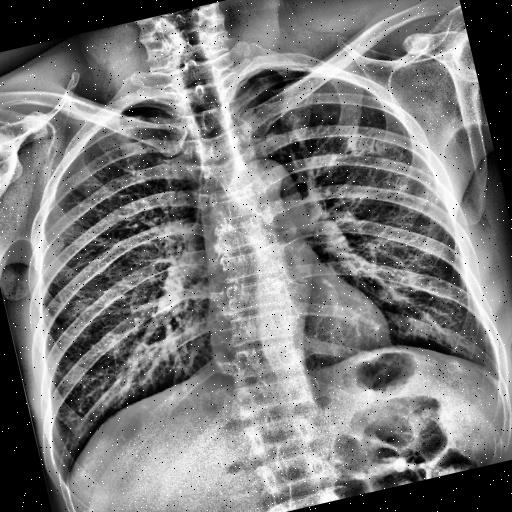0- Aortic enlargement: (224, 148, 306, 227)
13- Pulmonary fibrosis: (343, 125, 395, 162), (388, 172, 414, 196), (417, 184, 440, 208)
9- Other lesion: (350, 124, 399, 160), (343, 126, 388, 160), (385, 160, 416, 192), (416, 188, 440, 206)
